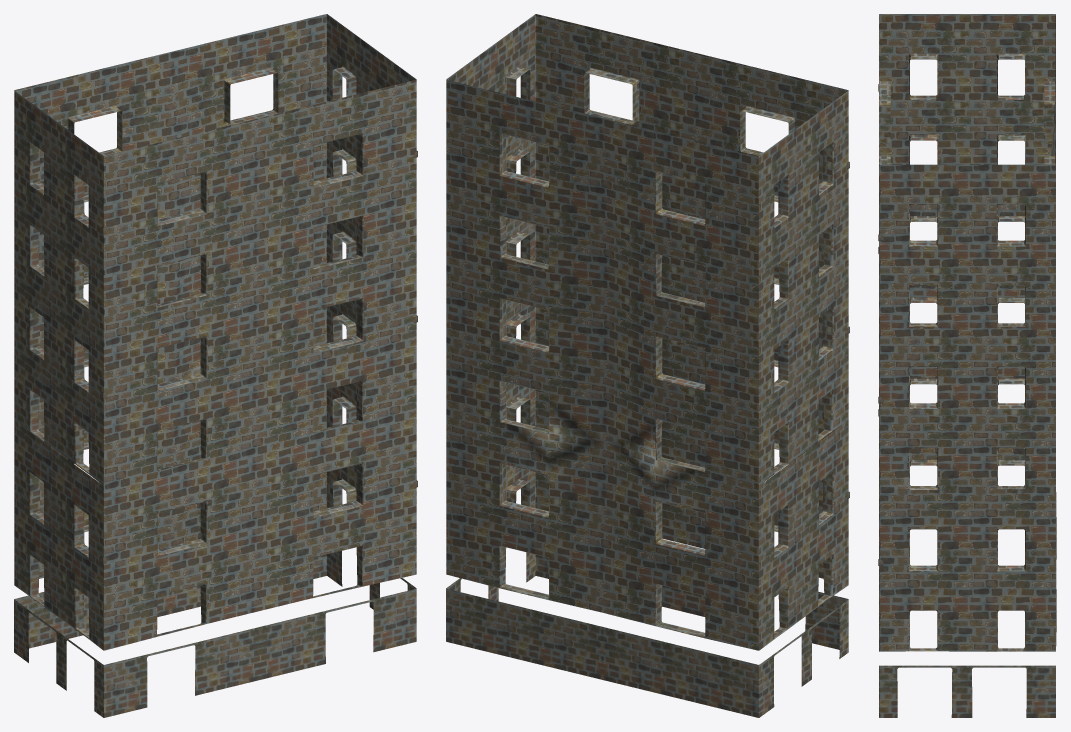
The model's file is Tall_b_wall.fbx.
The picture shows the model from 3 angles, left to right: view 1: azimuth 30°, elevation 25°; view 2: azimuth 150°, elevation 25°; view 3: azimuth 270°, elevation 25°; orthographic projection.
Parts seen in each view (by area): view 1: Object015; view 2: Object015; view 3: Object015.
Part boxes in pixels (x1,y1,x2,y2): Object015: [14, 14, 417, 717]; Object015: [446, 14, 849, 717]; Object015: [878, 14, 1056, 717].
Bounding box in the file's own units: 2304 × 3929 × 1148.
